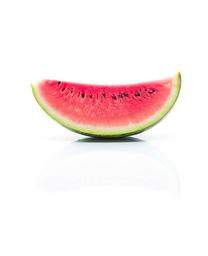watermelon: (26, 71, 183, 140)
